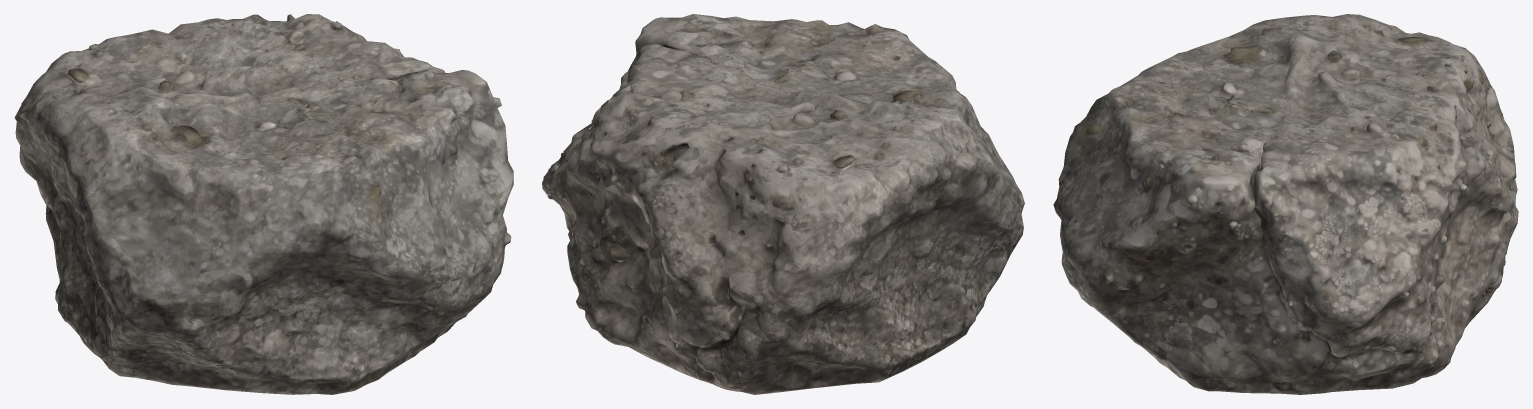
The model's file is boulder_d.glb.
The picture shows the model from 3 angles, left to right: view 1: azimuth 30°, elevation 25°; view 2: azimuth 150°, elevation 25°; view 3: azimuth 270°, elevation 25°; orthographic projection. The views are drawn at different scales.
Visible parts, largest first — view 1: boulder_d; view 2: boulder_d; view 3: boulder_d.
Boxes of the visible parts, box(x1,y1,x2,y2) form: boulder_d: box(14, 14, 513, 394); boulder_d: box(542, 14, 1024, 394); boulder_d: box(1053, 14, 1518, 394).
Size of the model in its own units: 4.51 by 2.6 by 4.54.
1 material, 1 textured.
